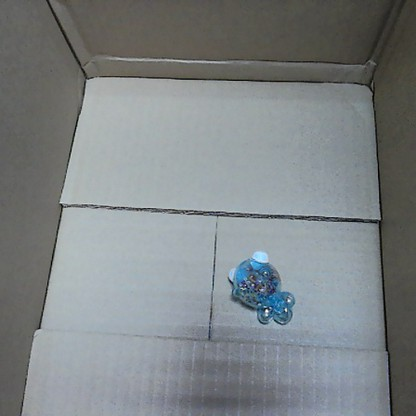bluefish: (225, 247, 297, 328)
